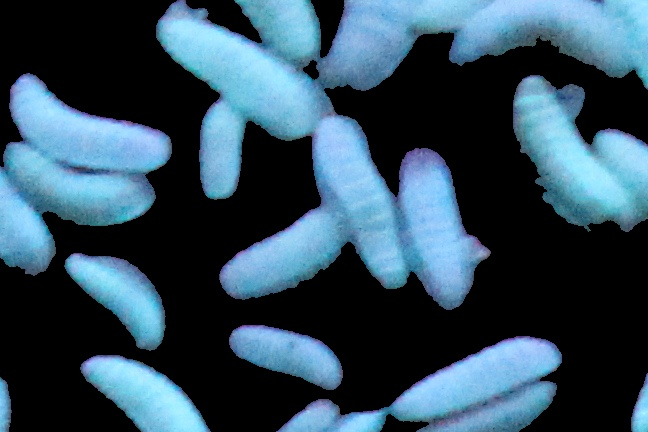larvae: (156, 1, 335, 141), (511, 74, 615, 238), (312, 116, 407, 288), (8, 74, 172, 173), (388, 336, 561, 421), (399, 149, 483, 309), (5, 138, 157, 226), (452, 1, 638, 71), (216, 211, 340, 301), (64, 251, 166, 352), (78, 357, 212, 432), (333, 1, 420, 93), (221, 323, 345, 387), (418, 382, 557, 427), (234, 1, 325, 68), (1, 171, 59, 276), (199, 97, 252, 199), (589, 128, 648, 207)
